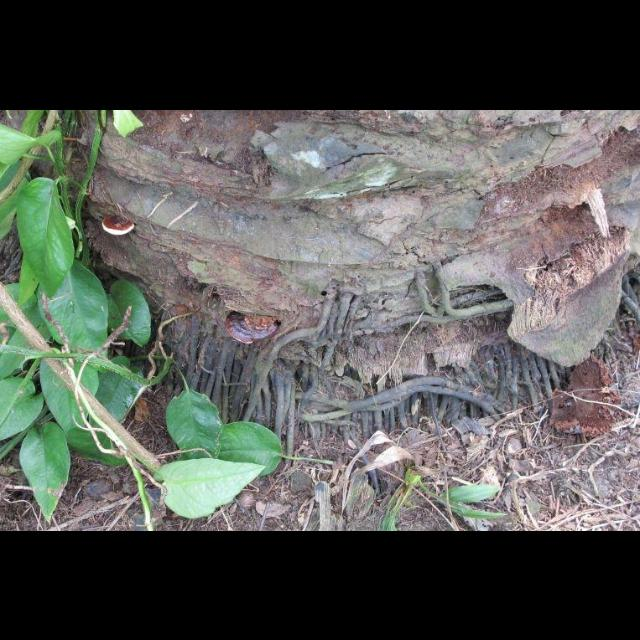ganoderma: (225, 312, 281, 347), (102, 215, 135, 236)
